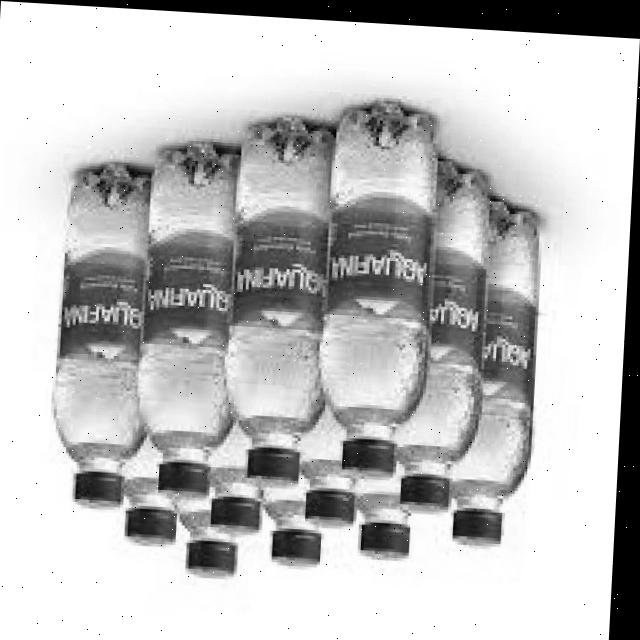bottle: (30, 107, 567, 590)
